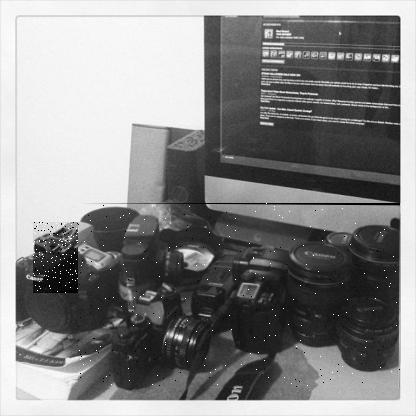Camera: (79, 204, 402, 390), (34, 223, 123, 295)
